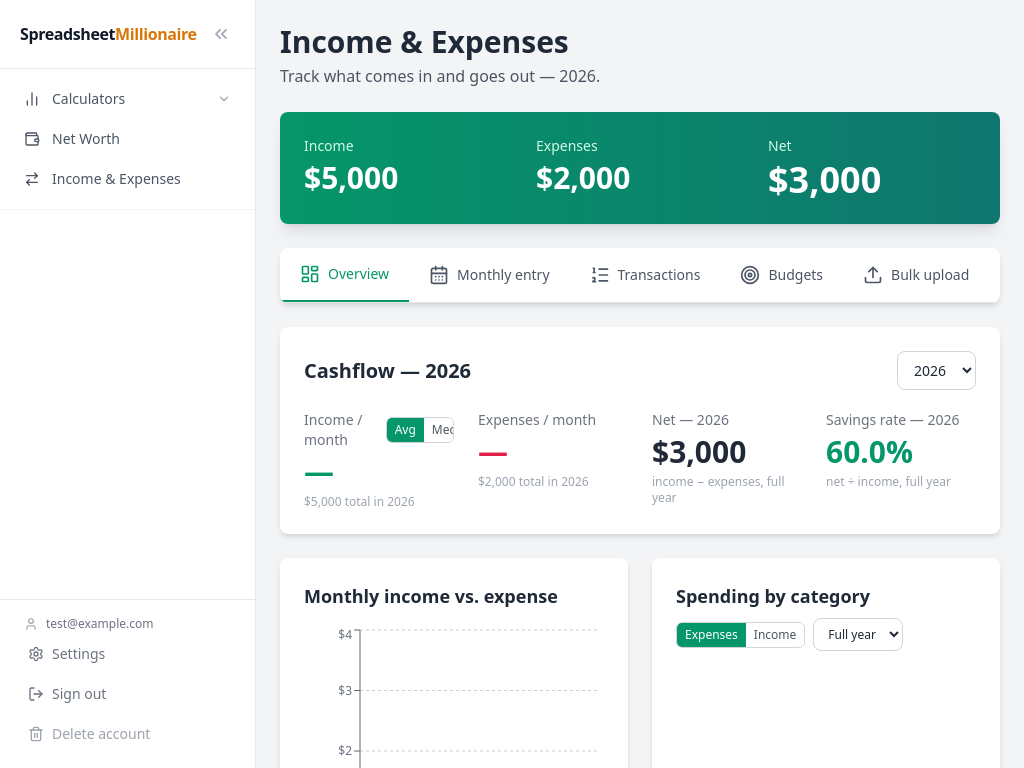
IncomeExpensePage › switches to the Transactions tab and renders the panel
The image size is (1024, 768).
Click the button "Transactions" at (645, 275), box [570,248,720,302]
(page scrolled)
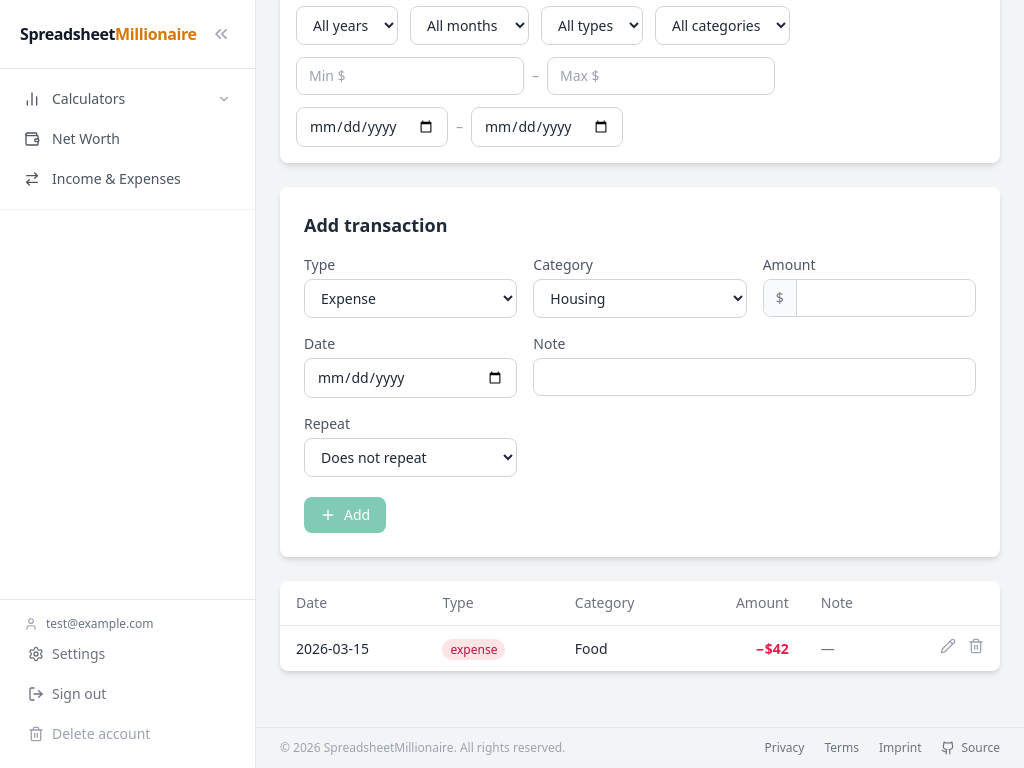
Now the text "Food" is shown, box [575,638,608,658]
